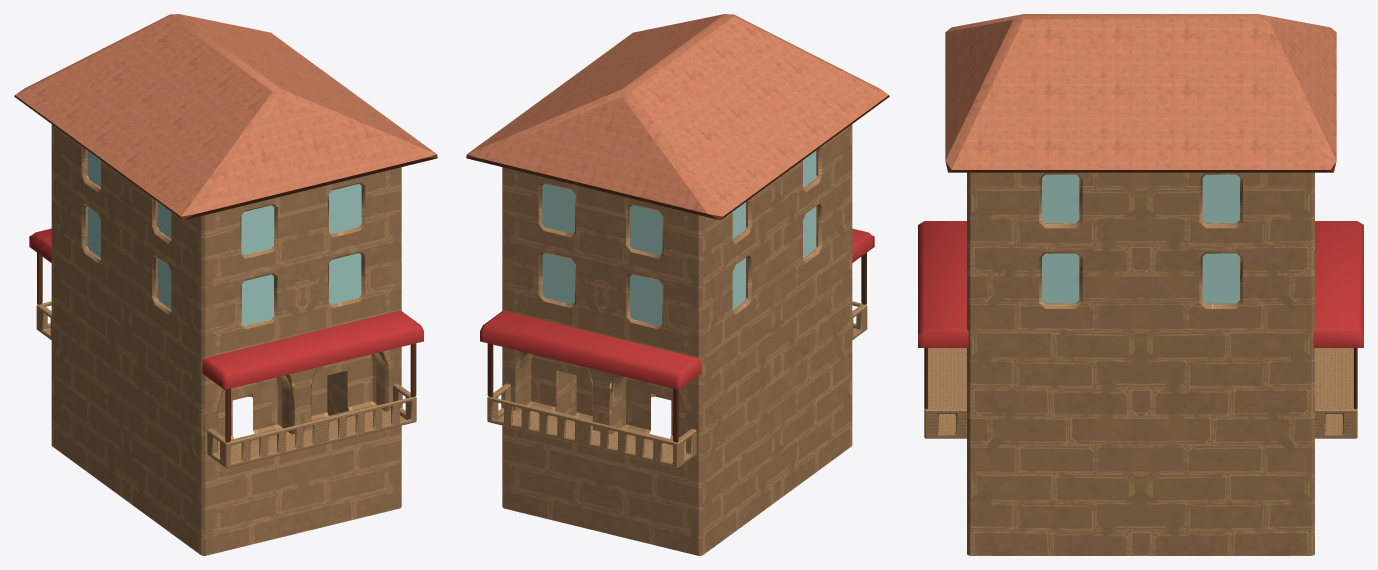
File: mesh_house_single.fbx
3 renders of one model, left to right at view 1: azimuth 30°, elevation 25°; view 2: azimuth 150°, elevation 25°; view 3: azimuth 270°, elevation 25°, orthographic. The views are drawn at different scales.
Visible parts, largest first — view 1: house_single, Roof.001, Plane.002, Terrace.001, windows_side_down, windows_side, windows_down, Terrace.003, windows; view 2: house_single, Roof.001, Plane.002, Terrace.001, windows_side_down, windows_side, windows_down, Terrace.003, windows; view 3: house_single, Roof.001, Plane.002, Terrace.001, windows_down, windows.
Boxes of the visible parts, bbox=[...] form: house_single: bbox=[51, 124, 401, 555]; Roof.001: bbox=[14, 14, 437, 220]; Plane.002: bbox=[29, 228, 423, 389]; Terrace.001: bbox=[36, 301, 416, 468]; windows_side_down: bbox=[241, 253, 361, 325]; windows_side: bbox=[241, 184, 361, 255]; windows_down: bbox=[87, 206, 171, 309]; Terrace.003: bbox=[37, 253, 416, 442]; windows: bbox=[87, 151, 171, 238]; house_single: bbox=[502, 124, 852, 555]; Roof.001: bbox=[466, 14, 889, 220]; Plane.002: bbox=[480, 228, 874, 389]; Terrace.001: bbox=[487, 301, 867, 468]; windows_side_down: bbox=[542, 253, 662, 325]; windows_side: bbox=[542, 184, 662, 255]; windows_down: bbox=[732, 206, 816, 309]; Terrace.003: bbox=[487, 253, 866, 442]; windows: bbox=[732, 151, 816, 238]; house_single: bbox=[967, 172, 1314, 555]; Roof.001: bbox=[945, 14, 1336, 172]; Plane.002: bbox=[918, 221, 1363, 347]; Terrace.001: bbox=[924, 348, 1357, 438]; windows_down: bbox=[1042, 253, 1239, 303]; windows: bbox=[1042, 174, 1239, 222].
Bounding box in the file's own units: 583 × 923 × 771.
